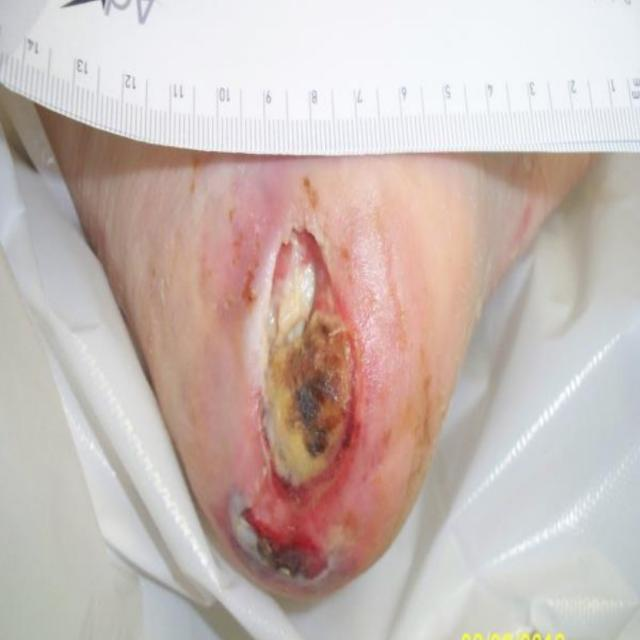Unstageable: (230, 229, 360, 580)
